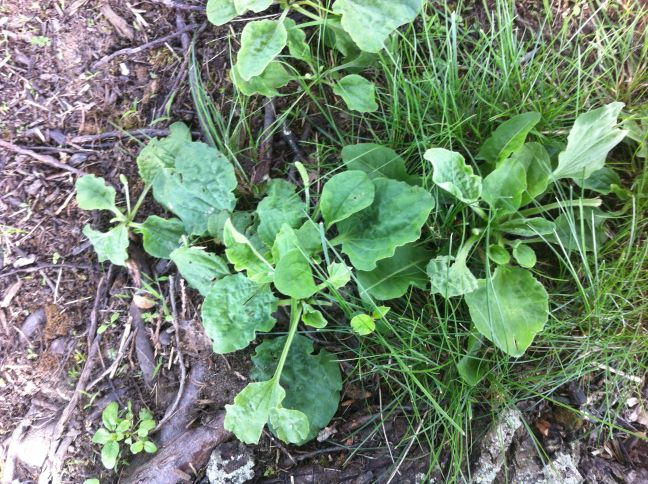weed1: (166, 173, 437, 449), (419, 98, 630, 359), (199, 1, 432, 114), (66, 118, 237, 269)
